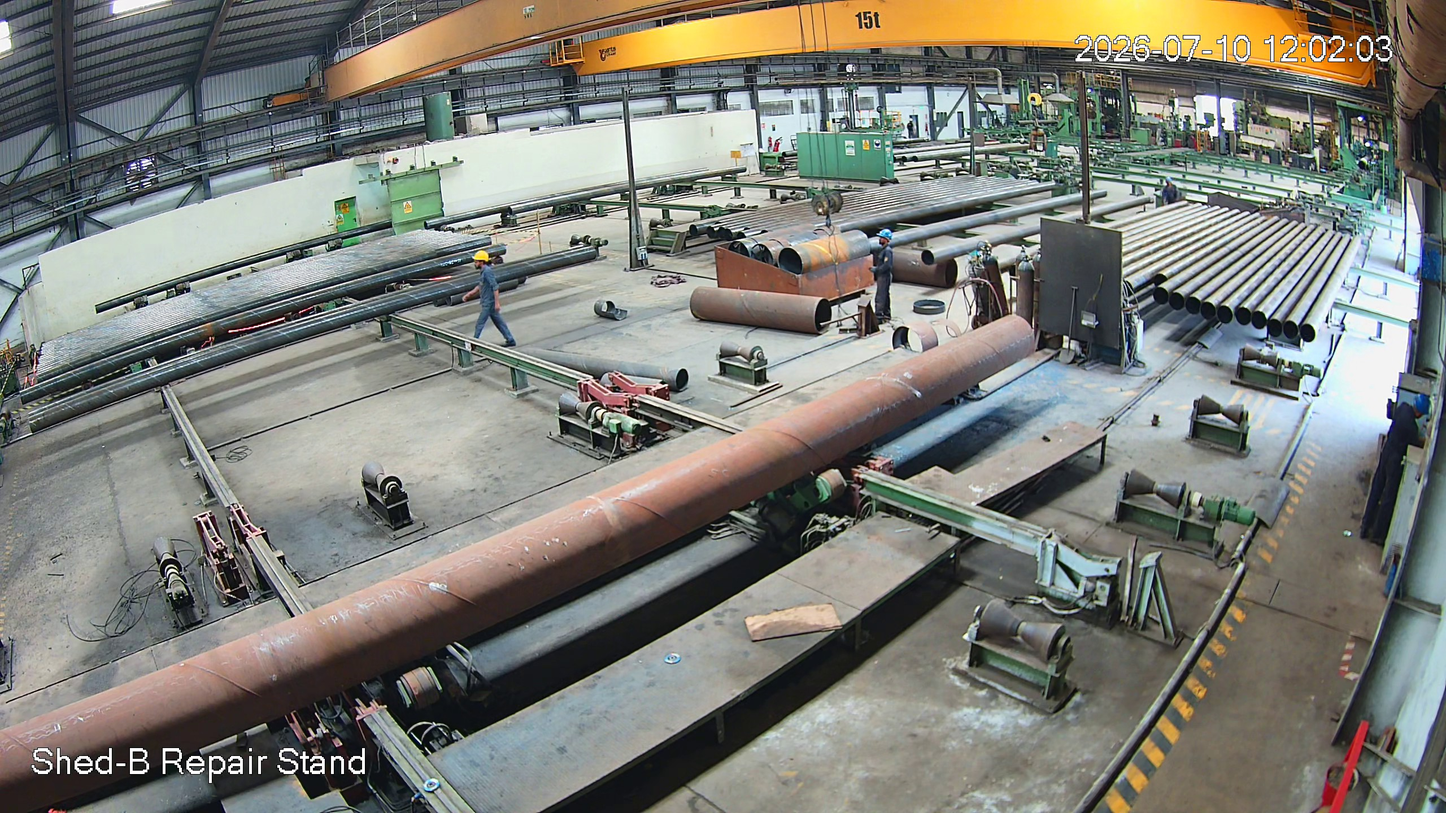Helmet: (1407, 391, 1432, 424), (468, 247, 497, 275), (875, 228, 894, 249)
Person: (1355, 393, 1435, 555), (463, 251, 515, 352), (868, 229, 893, 321)
